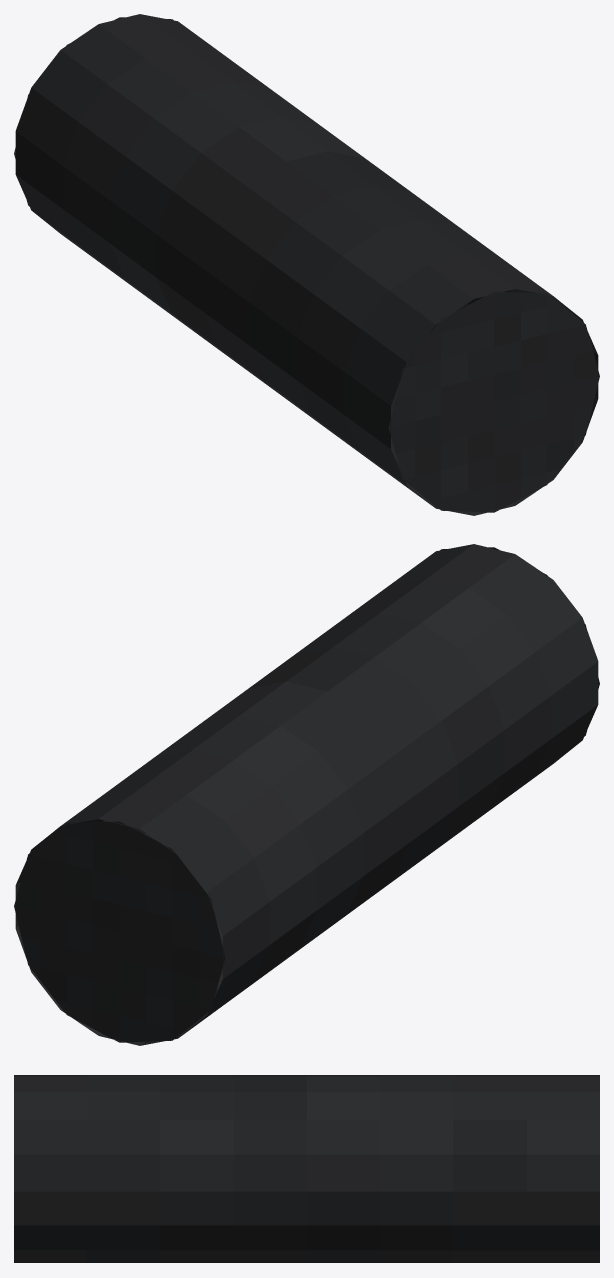
File: decopole_calheights_shaft.obj
3 renders of one model, top to bottom at view 1: azimuth 30°, elevation 25°; view 2: azimuth 150°, elevation 25°; view 3: azimuth 270°, elevation 25°, orthographic. The views are drawn at different scales.
Visible parts, largest first — view 1: decopole_calheights_shaft; view 2: decopole_calheights_shaft; view 3: decopole_calheights_shaft.
Part boxes in pixels (left/top/right/bottom): decopole_calheights_shaft: left=14, top=14, right=599, bottom=515; decopole_calheights_shaft: left=14, top=544, right=599, bottom=1045; decopole_calheights_shaft: left=14, top=1075, right=599, bottom=1262.
Bounding box in the file's own units: 0.325 × 0.325 × 1.
